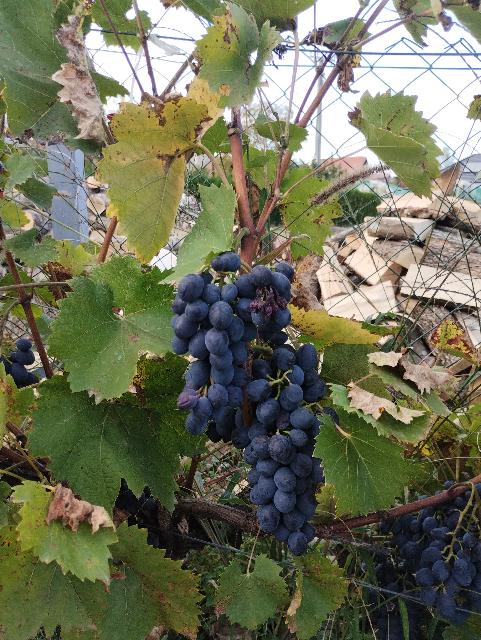grapes: (171, 264, 294, 440), (244, 344, 326, 555), (400, 496, 478, 625)
